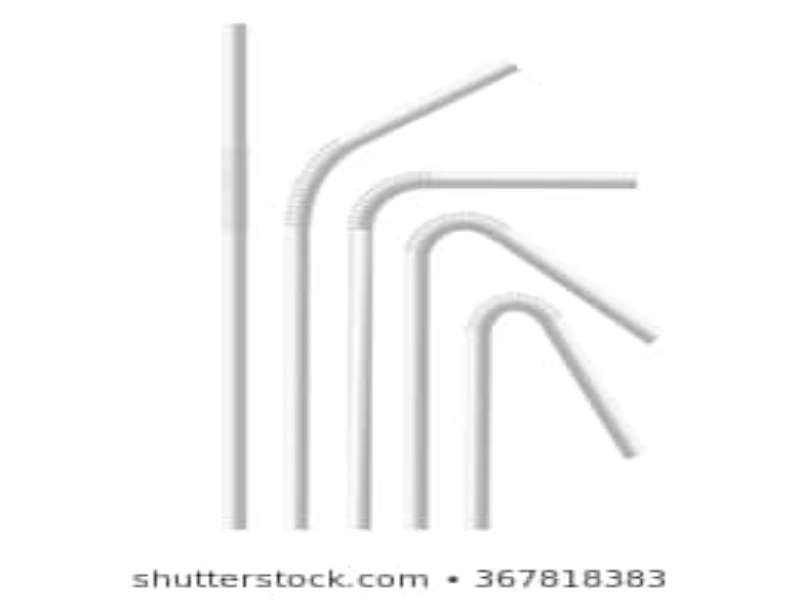straw: (286, 62, 522, 533), (346, 168, 643, 533), (400, 211, 654, 530), (468, 292, 639, 528), (218, 19, 253, 531)
